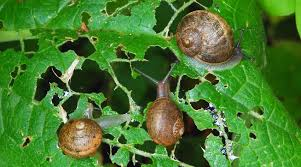snail: (179, 9, 241, 73), (151, 79, 182, 145), (60, 117, 102, 157)
